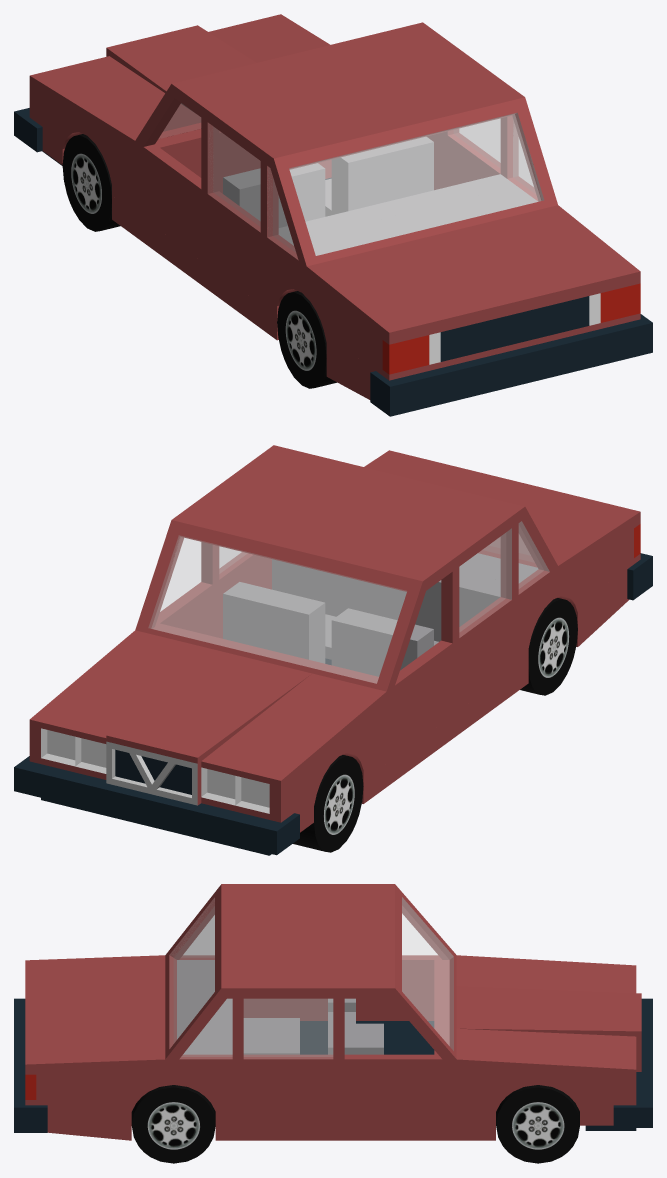
Rendered from car_roblox.glb.
3 views of the same model, one above another, from view 1: azimuth 30°, elevation 25°; view 2: azimuth 150°, elevation 25°; view 3: azimuth 270°, elevation 25° (orthographic). The views are drawn at different scales.
Visible parts, largest first — view 1: DSFDSFESDFSDFG_2; view 2: DSFDSFESDFSDFG_2; view 3: DSFDSFESDFSDFG_2.
Part boxes in pixels (x1=…): DSFDSFESDFSDFG_2: x1=14, y1=14, x2=652, y2=416; DSFDSFESDFSDFG_2: x1=14, y1=445, x2=652, y2=855; DSFDSFESDFSDFG_2: x1=14, y1=884, x2=652, y2=1163.
Bounding box in the file's own units: 3.9 × 2.92 × 9.66.
10 materials, 1 textured.
